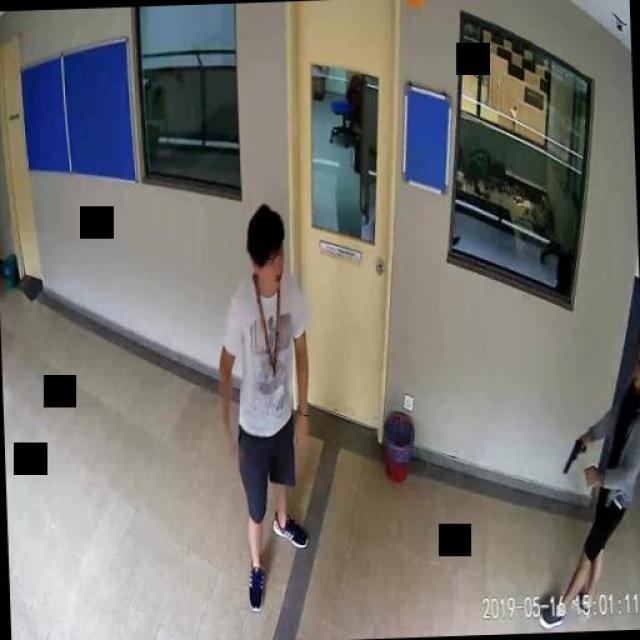gun: (562, 435, 586, 473)
